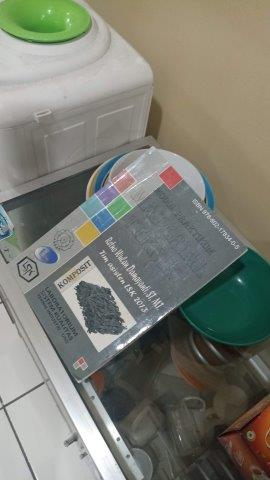kertas: (8, 149, 248, 381)
